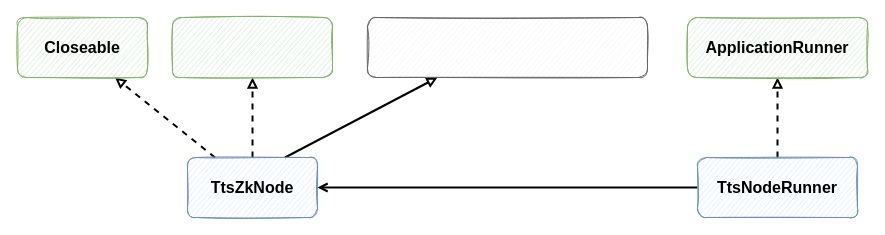
Image size: 885x235. Some labels were removed from this diagram. The shapes that lost their labels are listed below. From the top down, each one's centre as x and y in pixels, then its label:
At point (252, 47): "InitializingBean".
At point (507, 47): "LeaderSelectorListenerAdapter".
